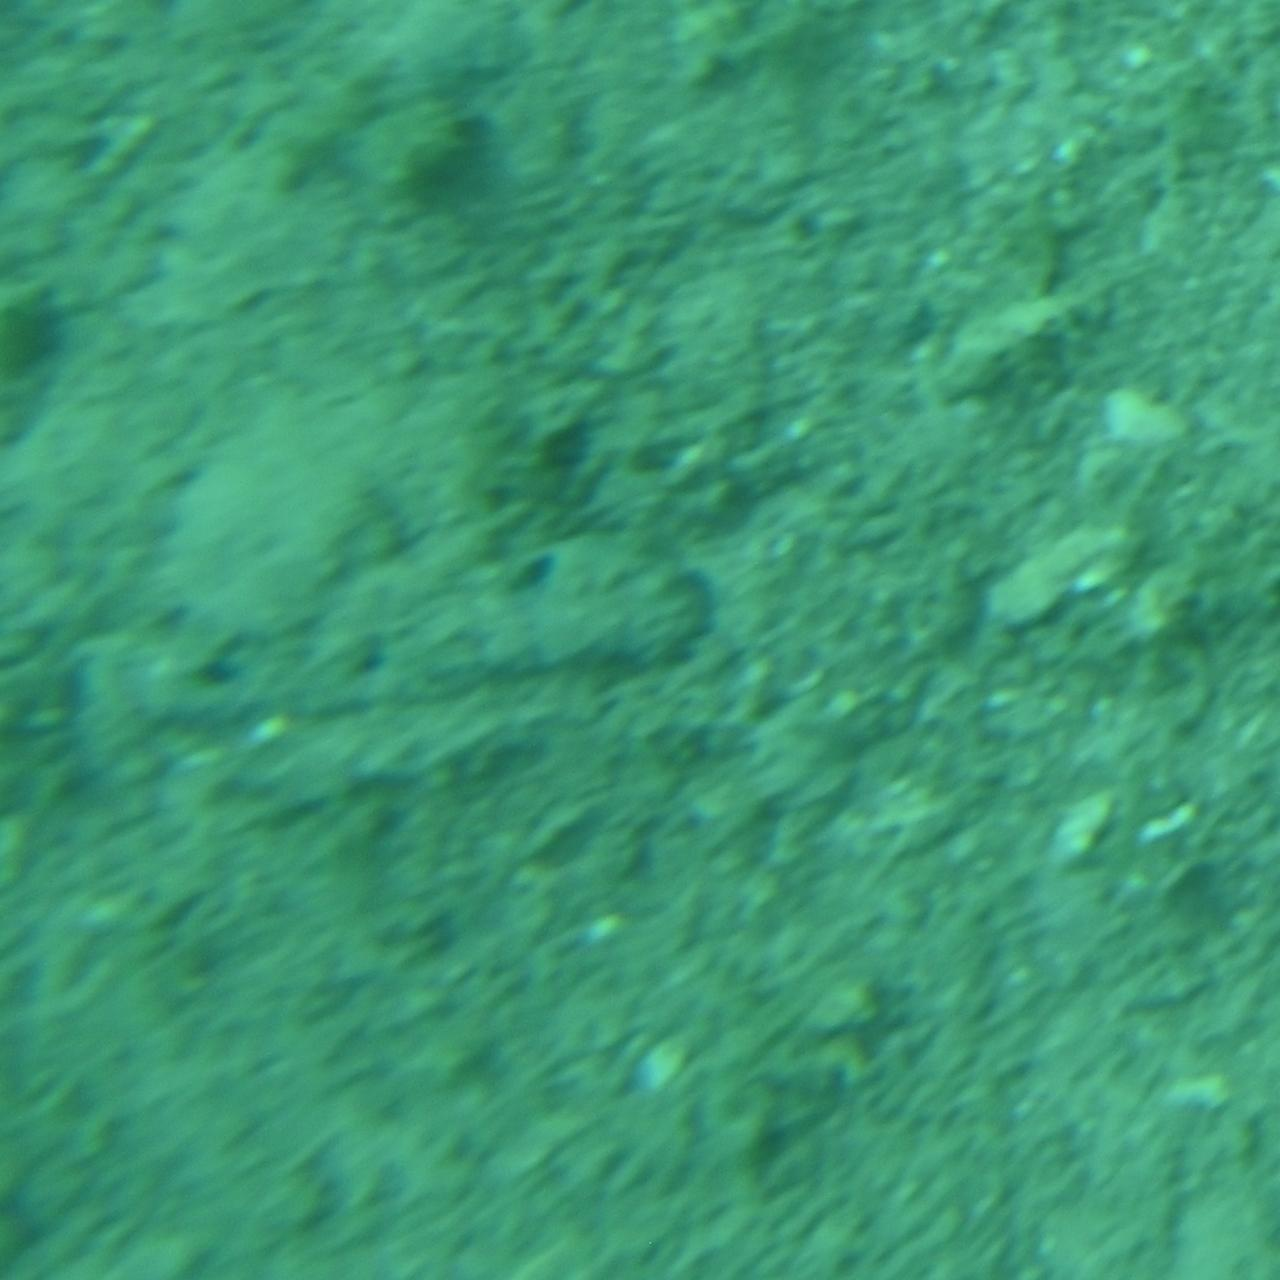Holothuria tubulosa: (52, 520, 713, 760)
